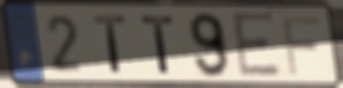2: (45, 13, 86, 75)
9: (185, 10, 232, 80)
E: (229, 9, 284, 80)
F: (279, 14, 323, 77)
T: (140, 14, 178, 76), (91, 14, 129, 76)
